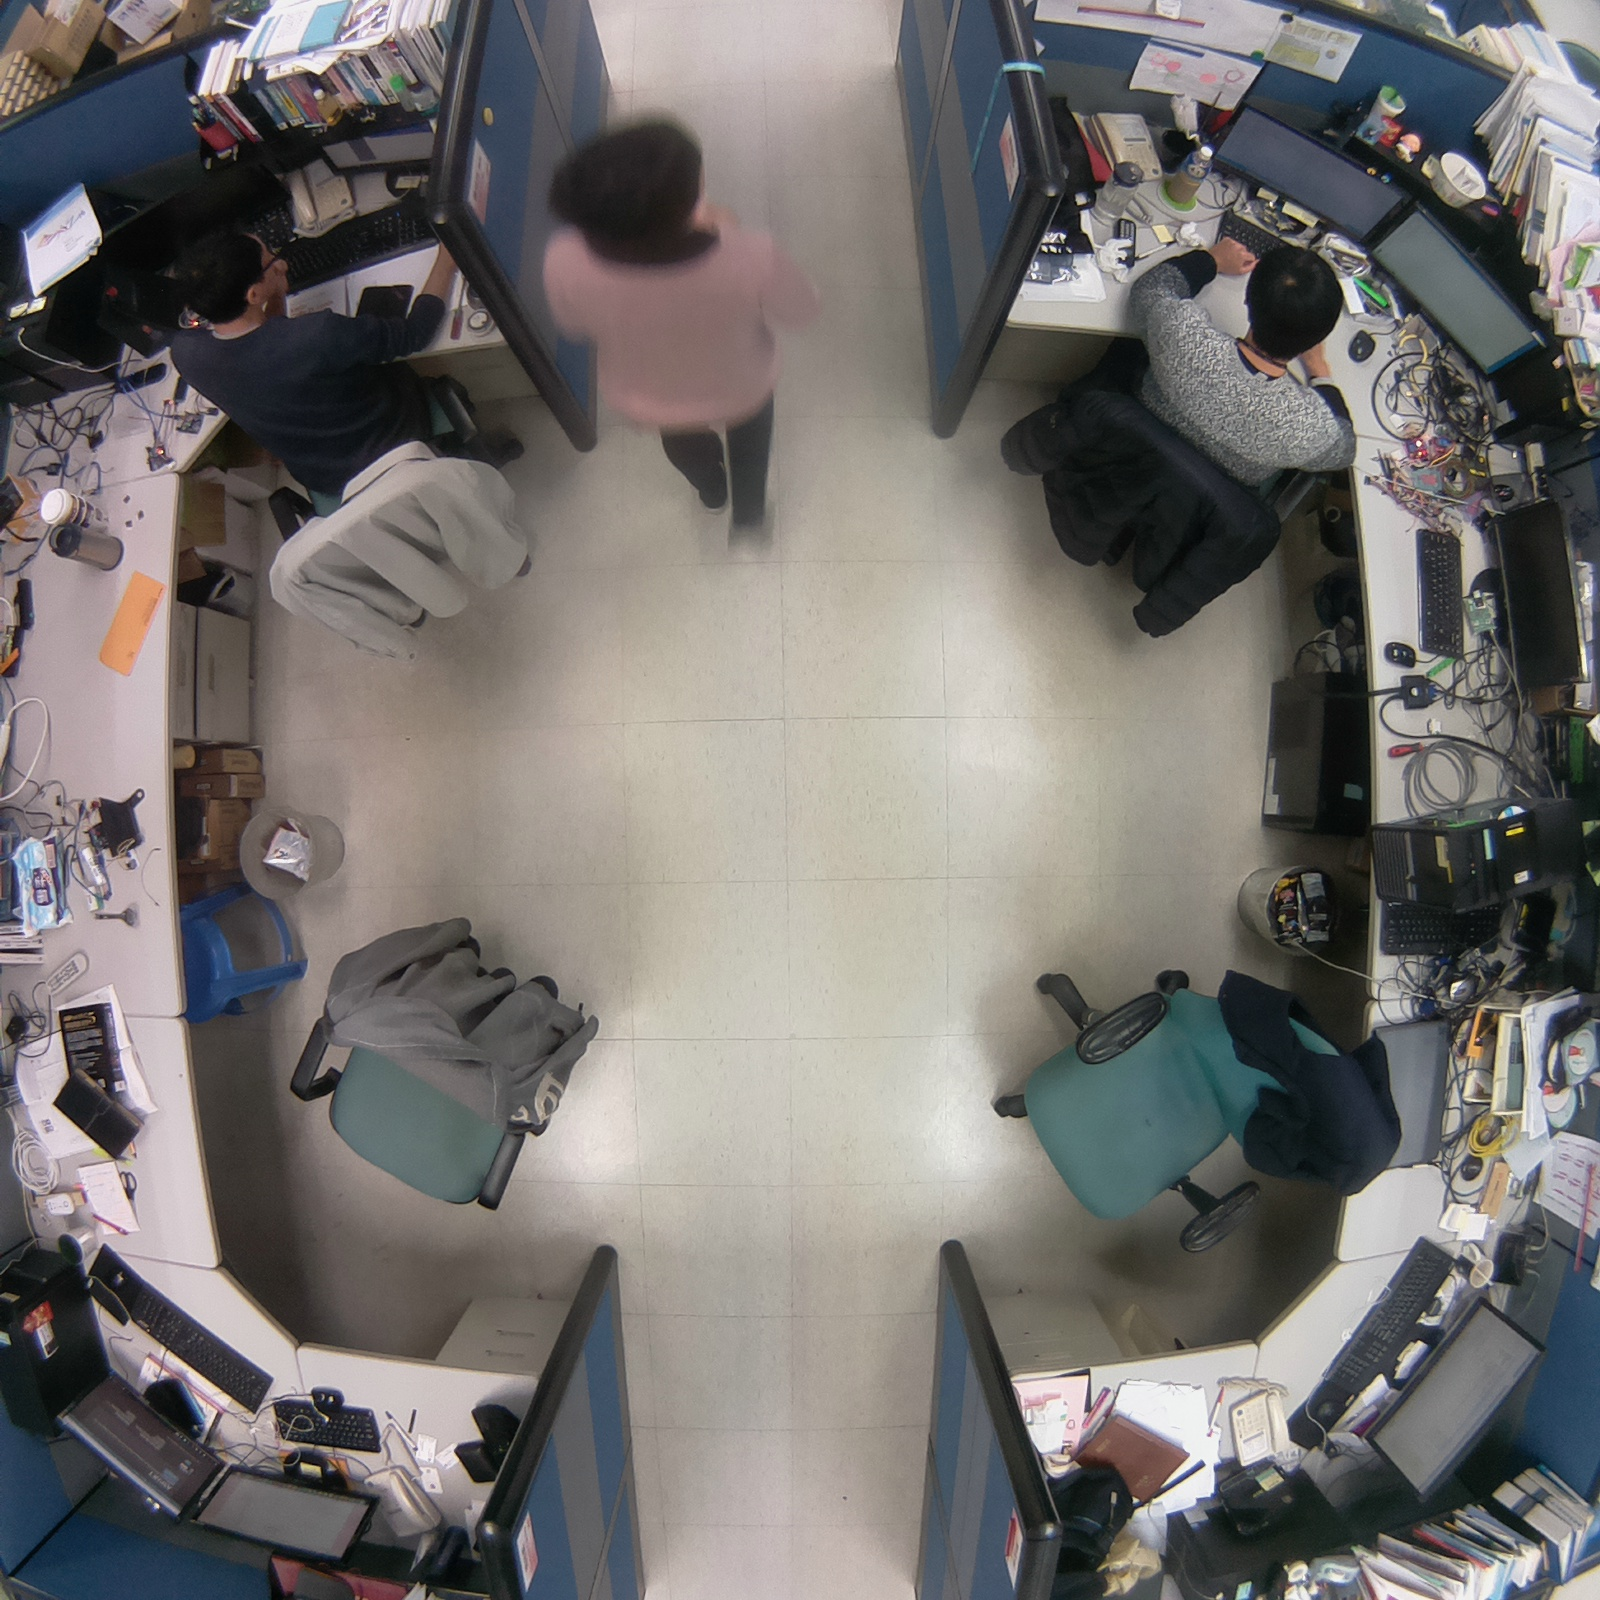chair: (958, 947, 1412, 1263), (268, 893, 629, 1227)
head: (540, 102, 740, 276), (157, 221, 297, 331), (1246, 227, 1355, 351)
sitting: (144, 221, 540, 670), (991, 212, 1363, 655)
walking: (523, 109, 835, 574)
